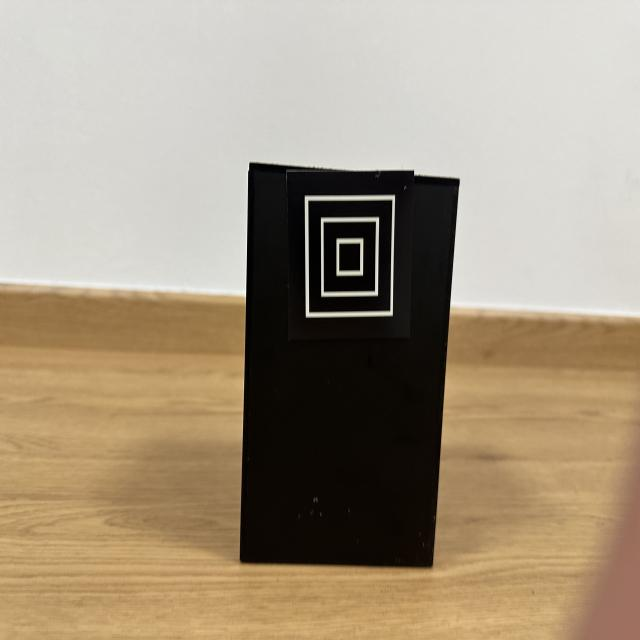BULLSEYE: (286, 168, 415, 343)
